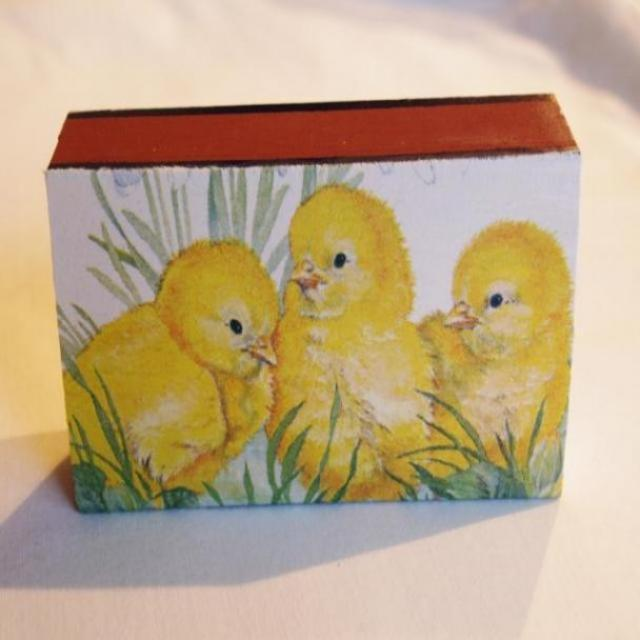Chicken: (79, 236, 289, 497)
